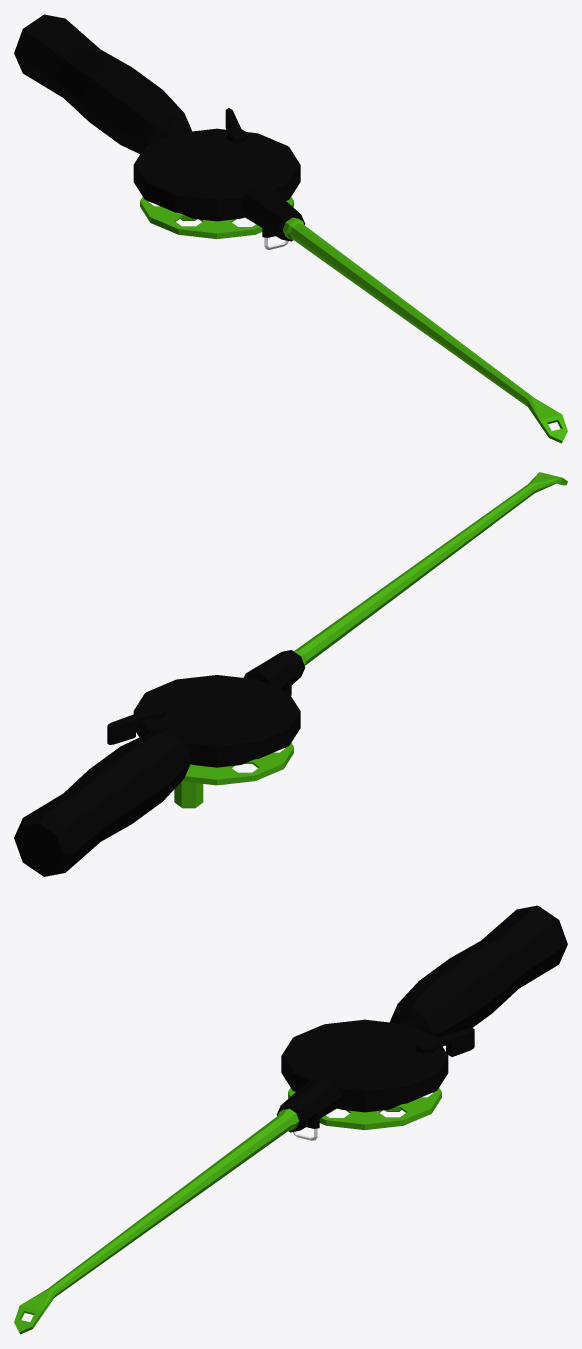
The model's file is CrabFishingRod.glb.
The picture shows the model from 3 angles, top to bottom: view 1: azimuth 30°, elevation 25°; view 2: azimuth 150°, elevation 25°; view 3: azimuth 330°, elevation 25°; orthographic projection.
Parts seen in each view (by area): view 1: CrabFishingRod; view 2: CrabFishingRod; view 3: CrabFishingRod.
Part boxes in pixels (left/top/right/bottom): CrabFishingRod: left=14, top=14, right=567, bottom=443; CrabFishingRod: left=14, top=472, right=567, bottom=876; CrabFishingRod: left=14, top=905, right=567, bottom=1334.
Size of the model in its own units: 2.67 by 1.69 by 16.73.
1 material, 1 textured.
